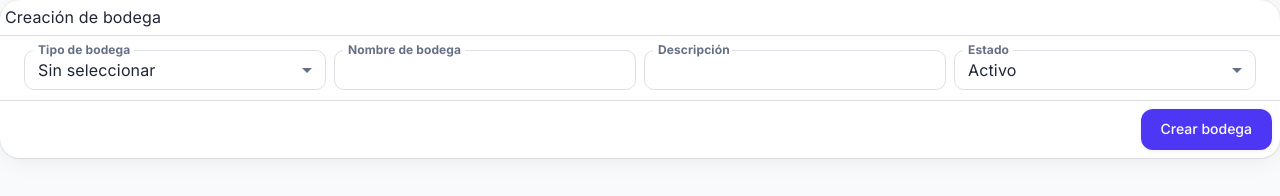
FormularioCrearBodega › valida los campos obligatorios antes de enviar
The width and height of the screenshot is (1280, 196).
Expected: the dropdown labelled "Sin seleccionar" is shown, [38, 60, 156, 80]
Step 1. Click the button "Crear bodega" → (1206, 129), box [1140, 109, 1272, 150]
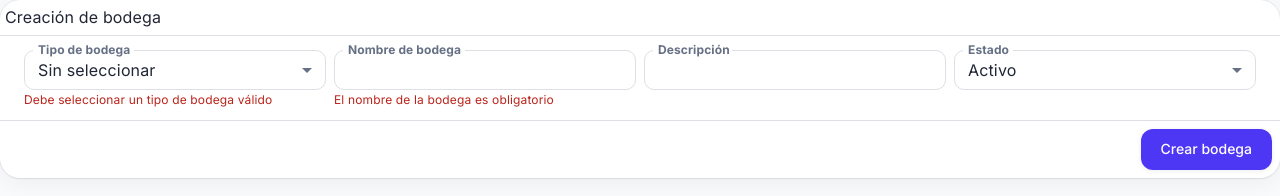
Expected: the text "Debe seleccionar un tipo de bodega válido" is shown, [24, 92, 272, 107]
Expected: the text "El nombre de la bodega es obligatorio" is shown, [334, 92, 554, 107]
